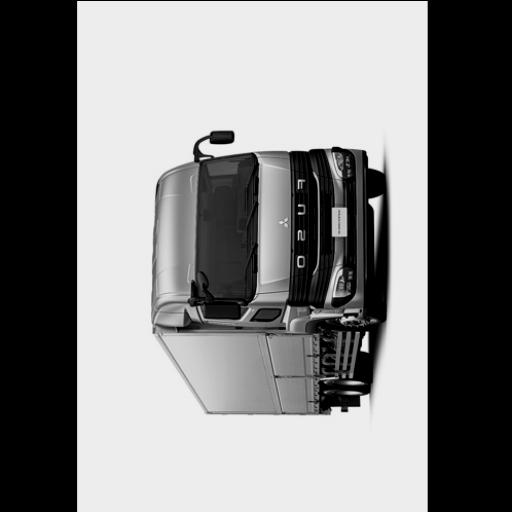truck: (154, 128, 388, 414)
